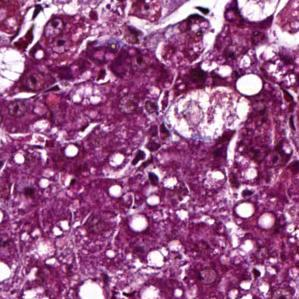ballooning: (164, 85, 253, 142), (235, 0, 291, 25)
